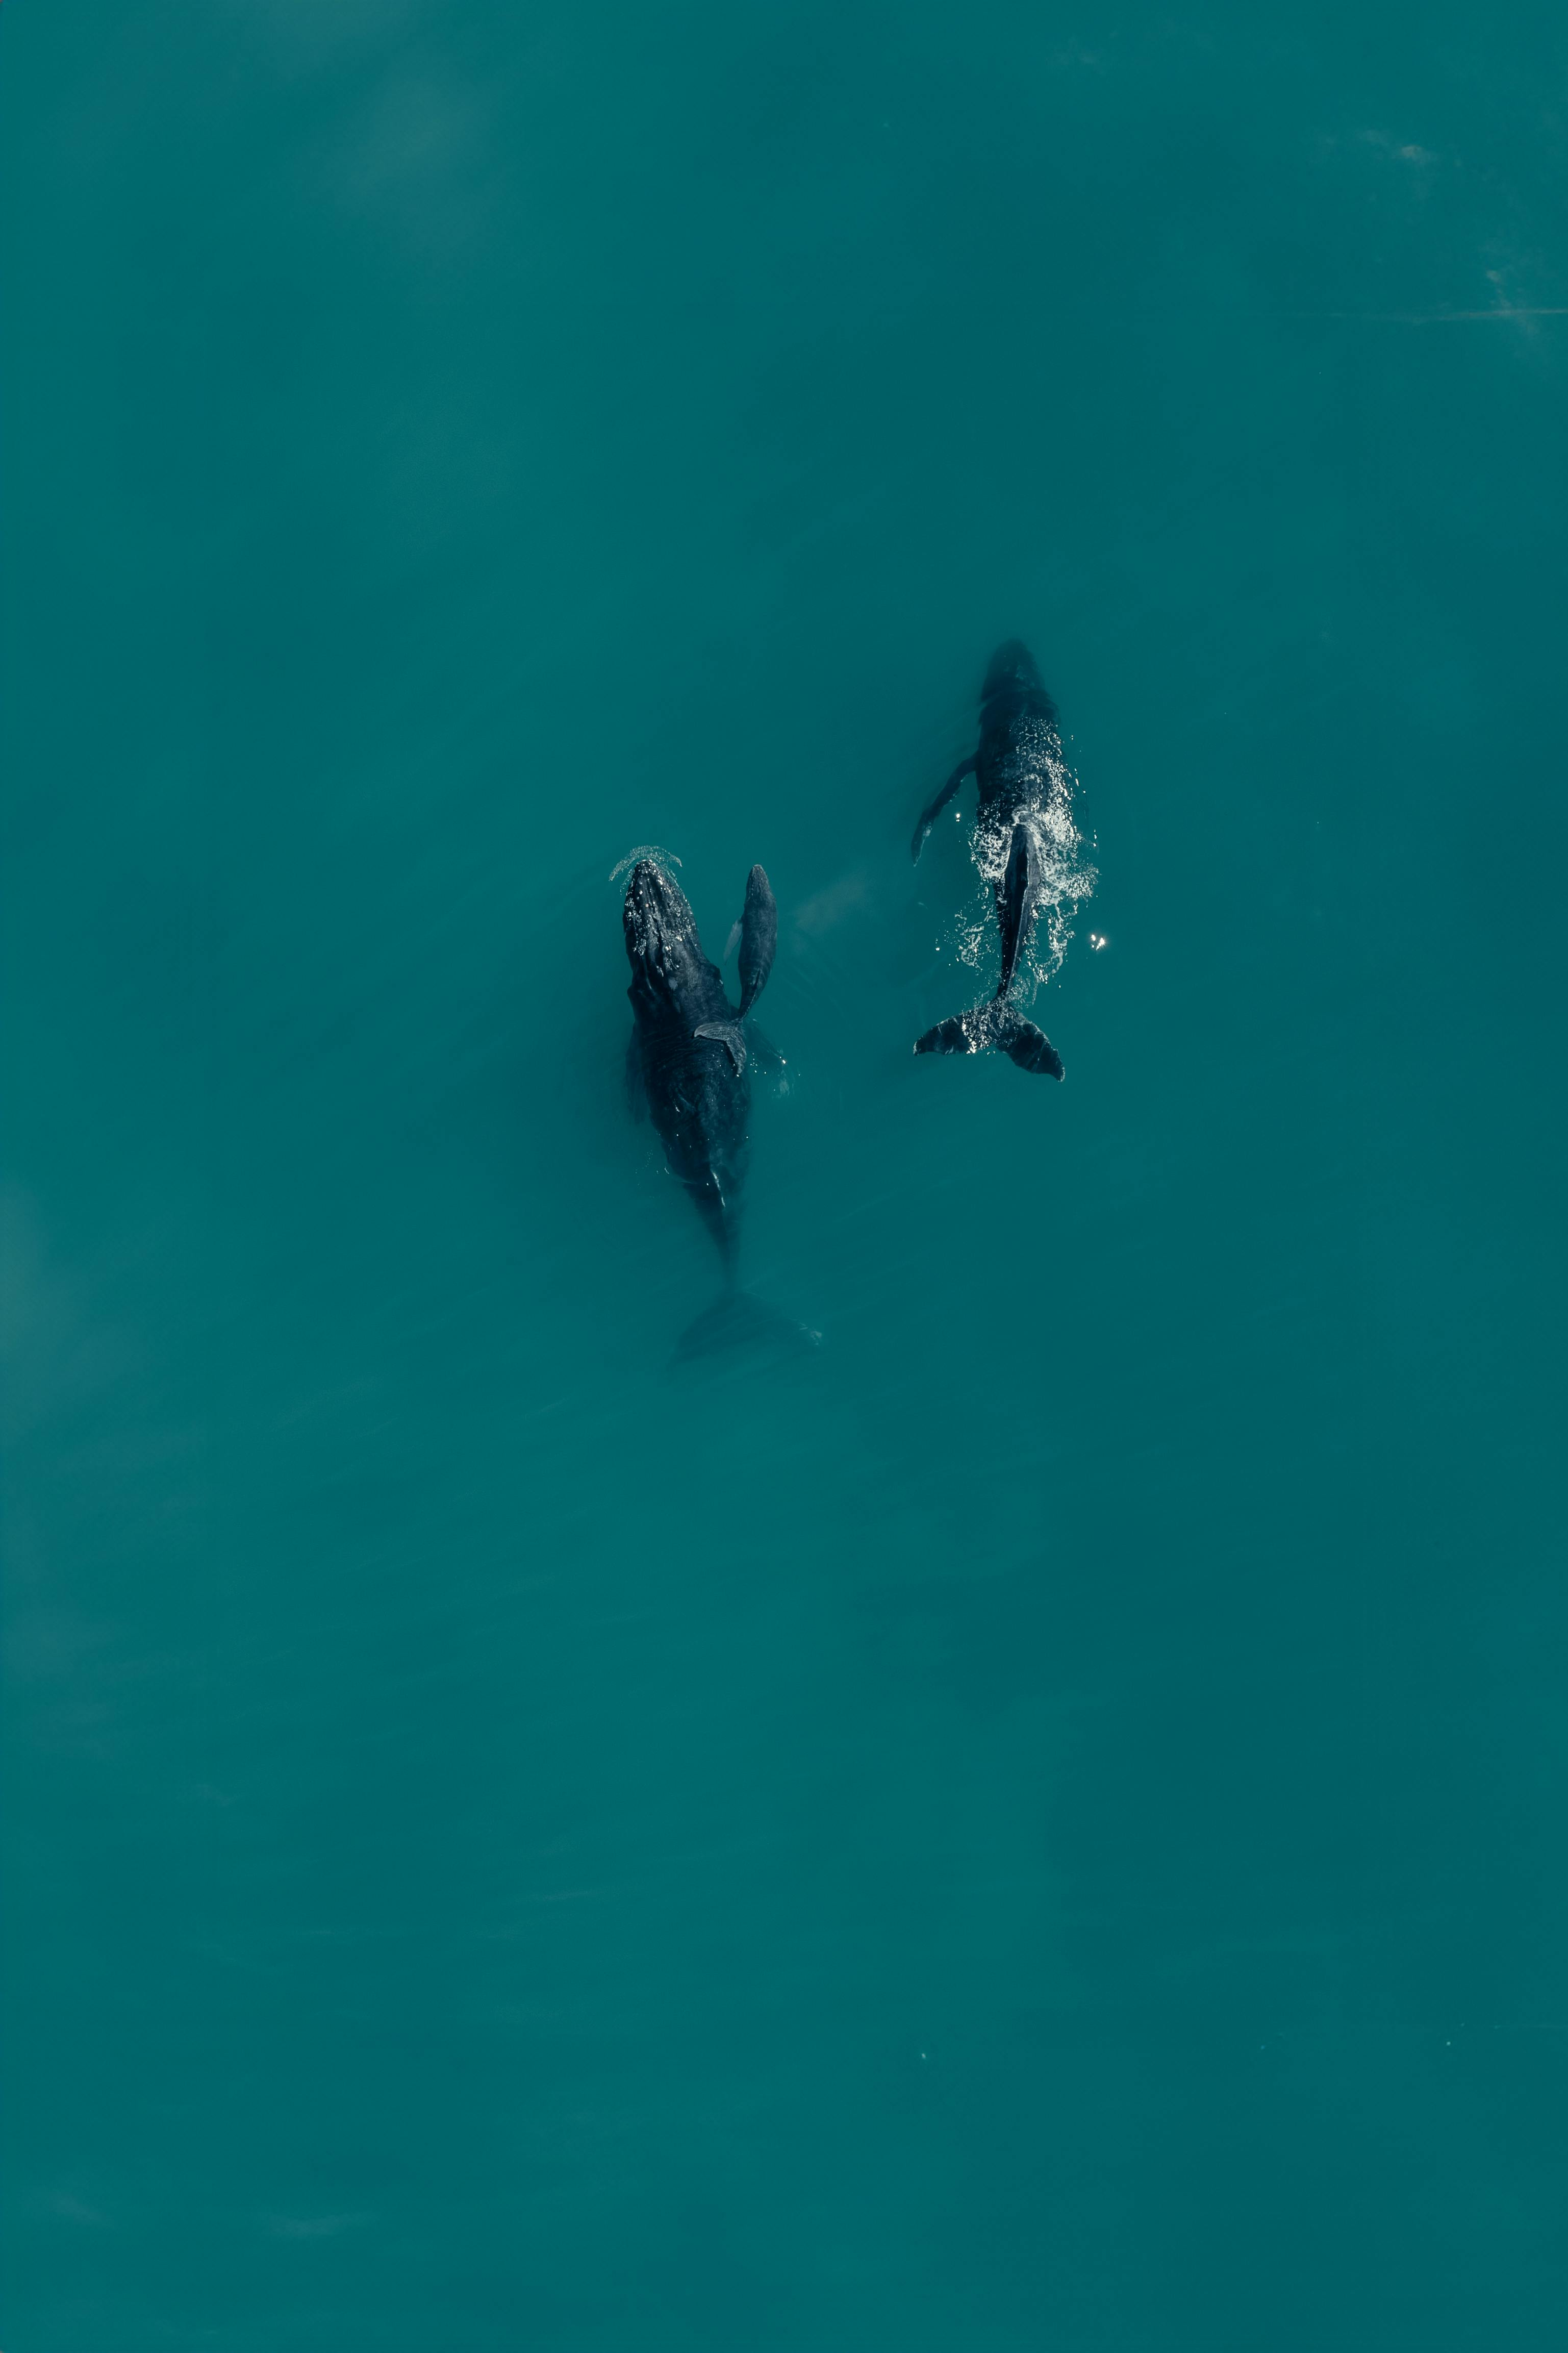whale: (615, 856, 822, 1372), (906, 638, 1086, 1087), (696, 866, 798, 1063)
